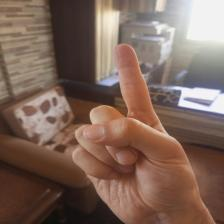one: (71, 45, 196, 217)
